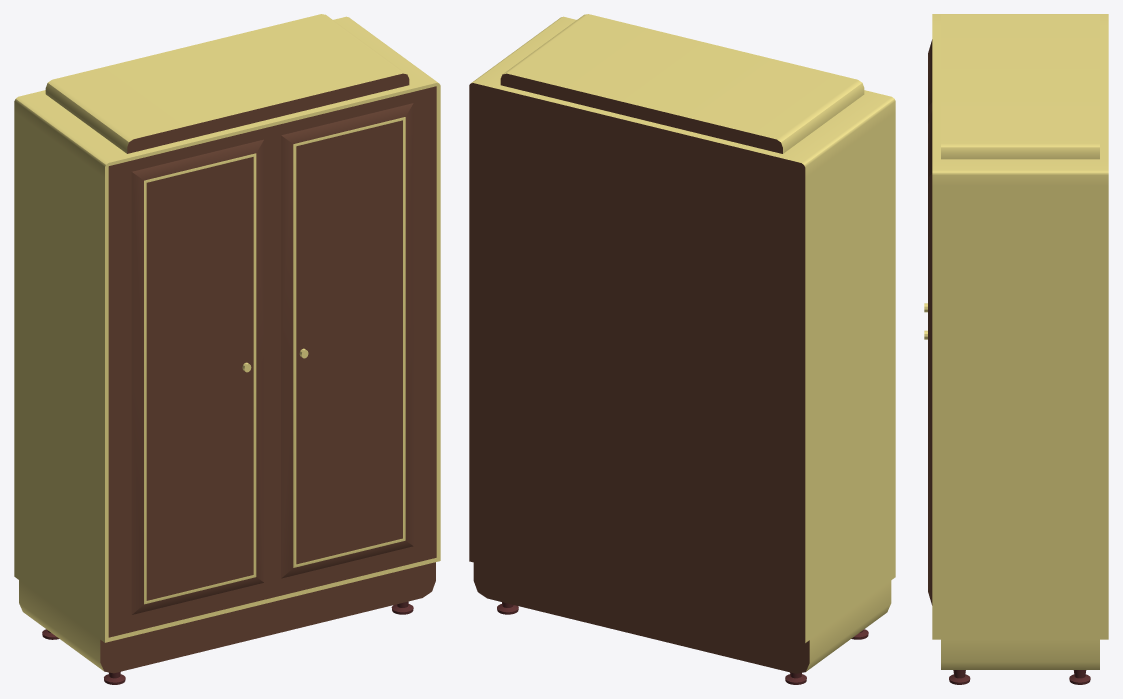
File: cabinet.fbx
3 renders of one model, left to right at view 1: azimuth 30°, elevation 25°; view 2: azimuth 150°, elevation 25°; view 3: azimuth 270°, elevation 25°, orthographic. The views are drawn at different scales.
Visible parts, largest first — view 1: polySurface6; view 2: polySurface6; view 3: polySurface6.
Boxes of the visible parts, box(x1,y1,x2,y2) form: polySurface6: box(14, 14, 440, 673); polySurface6: box(469, 14, 895, 673); polySurface6: box(928, 14, 1108, 669).
Bounding box in the file's own units: 98.06 × 153 × 47.87.
